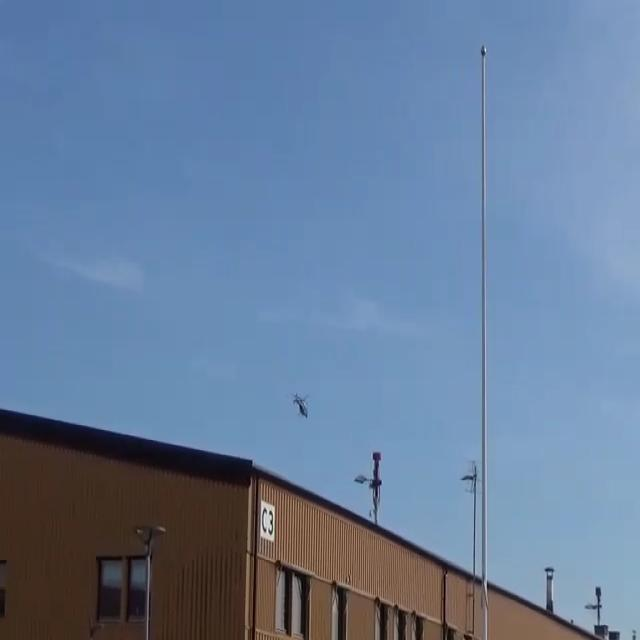Helicopter: (280, 373, 320, 437)
